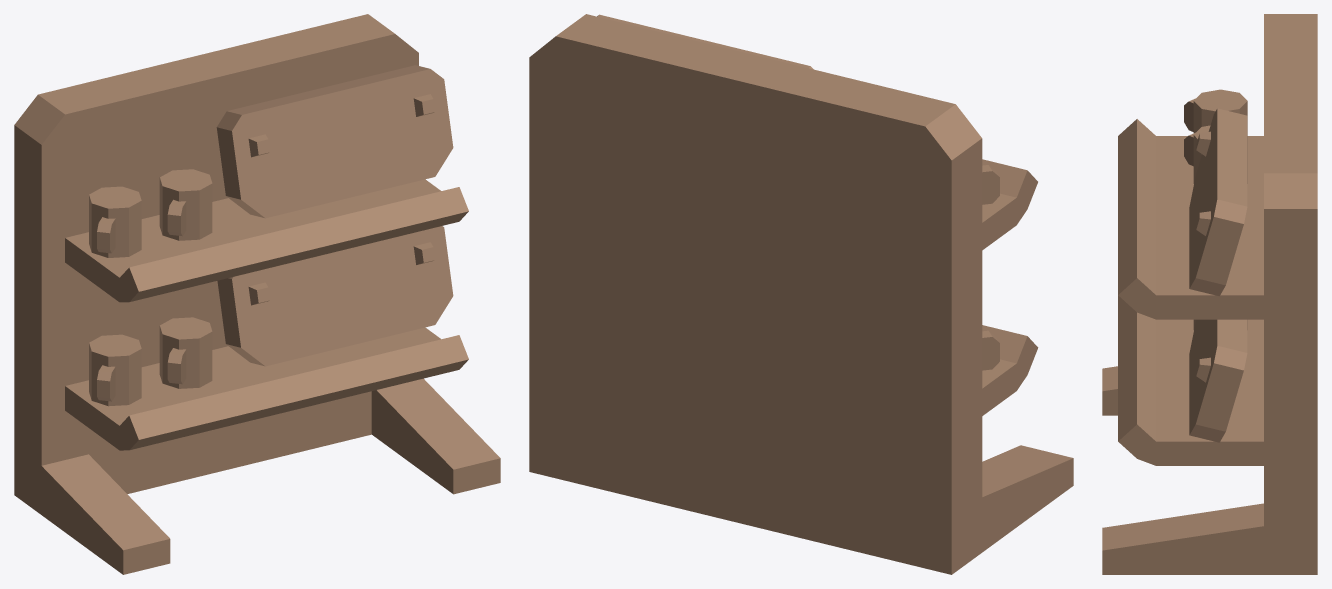
Rendered from prizes.obj.
3 views of the same model, side by side, from view 1: azimuth 30°, elevation 25°; view 2: azimuth 150°, elevation 25°; view 3: azimuth 270°, elevation 25° (orthographic). The views are drawn at different scales.
Size of the model in its own units: 0.8 by 0.8 by 0.4.
